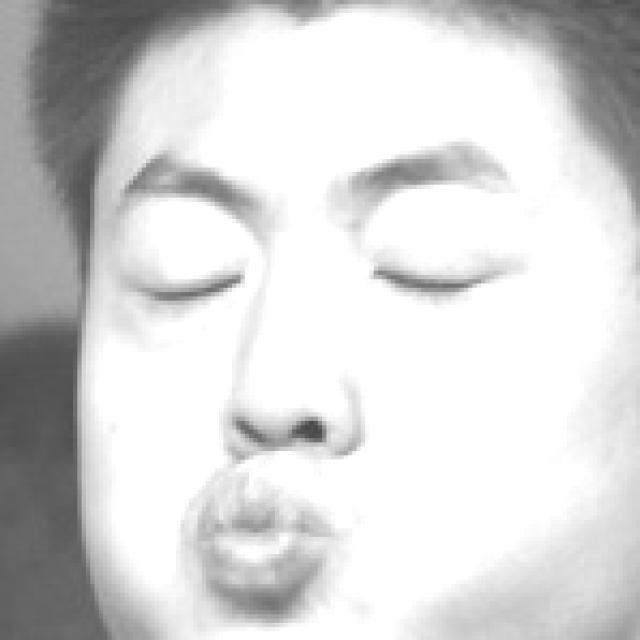real: (72, 8, 629, 614), (110, 194, 544, 338)
